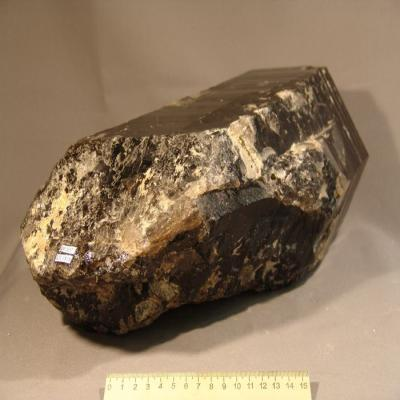mineralogy: (19, 66, 369, 338)
